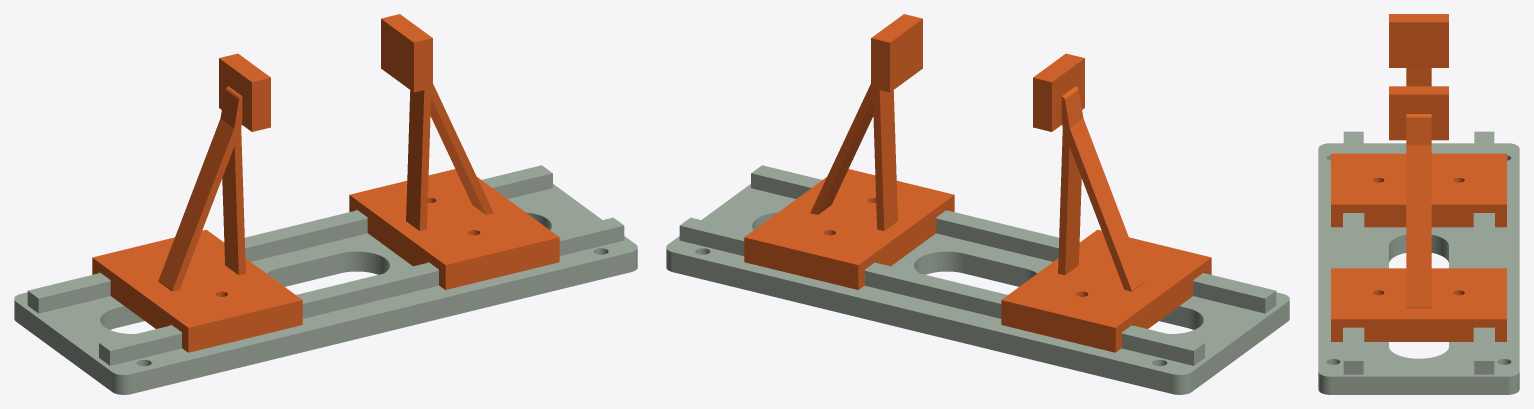
3 views of the same model, side by side, from view 1: azimuth 30°, elevation 25°; view 2: azimuth 150°, elevation 25°; view 3: azimuth 270°, elevation 25° (orthographic). The views are drawn at different scales.
Visible parts, largest first — view 1: base, left, right; view 2: base, left, right; view 3: base, right, left.
Boxes of the visible parts, x1,y1,x2,y2 form: base: (14,165,637,394); left: (92,53,302,352); right: (349,14,559,289); base: (666,165,1289,394); left: (1001,53,1211,352); right: (744,14,954,289); base: (1318,131,1519,394); right: (1331,86,1506,341); left: (1331,14,1506,227).
Size of the model in its own units: 220 by 98.3 by 80.
